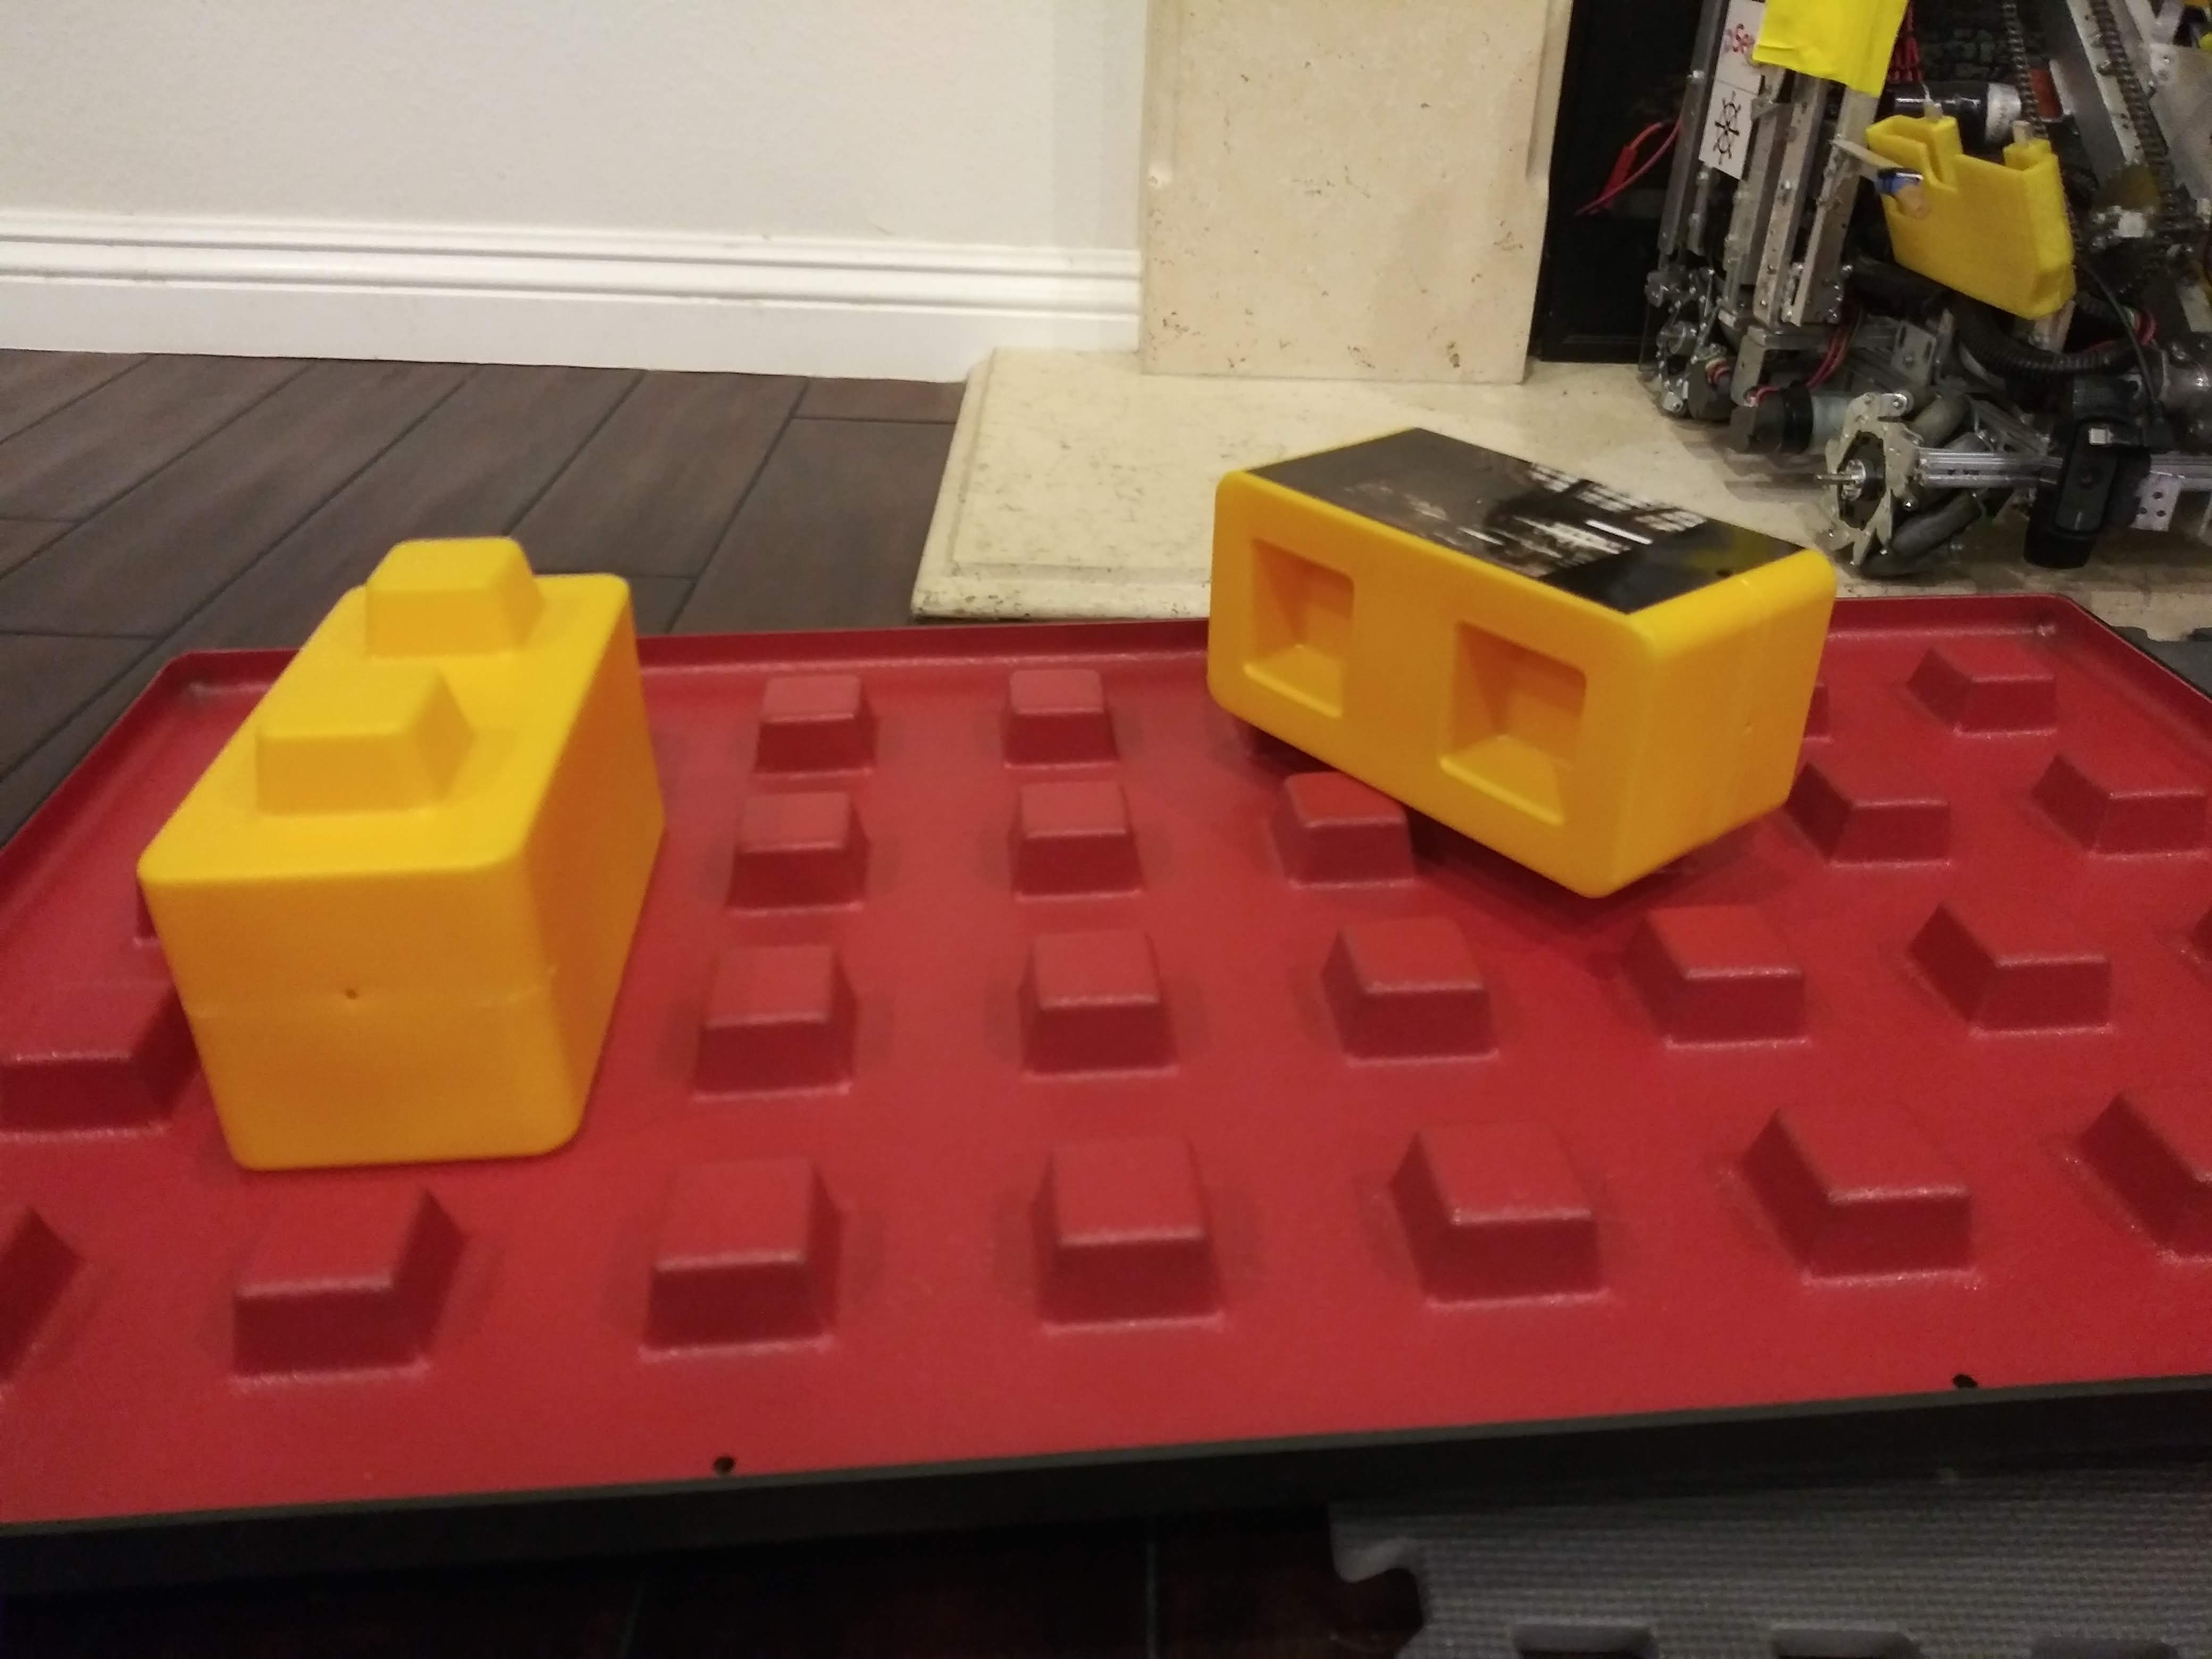skystone: (1217, 408, 1817, 871)
stone: (171, 594, 657, 1147)
